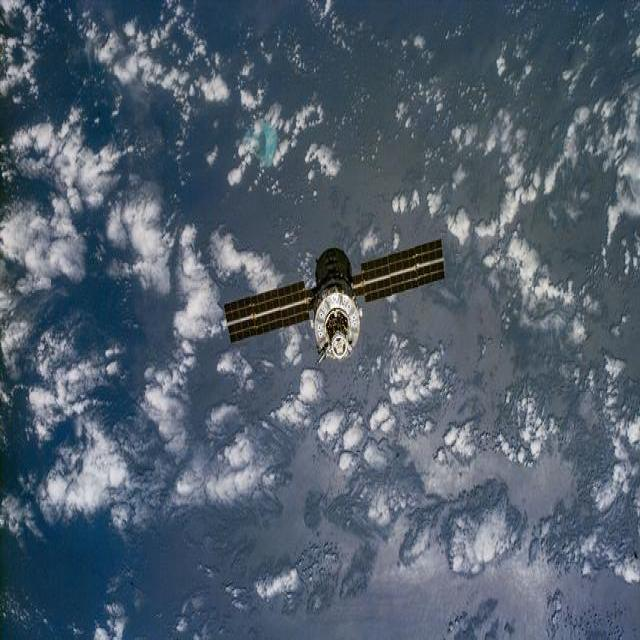medium_debris: (202, 235, 456, 371)
